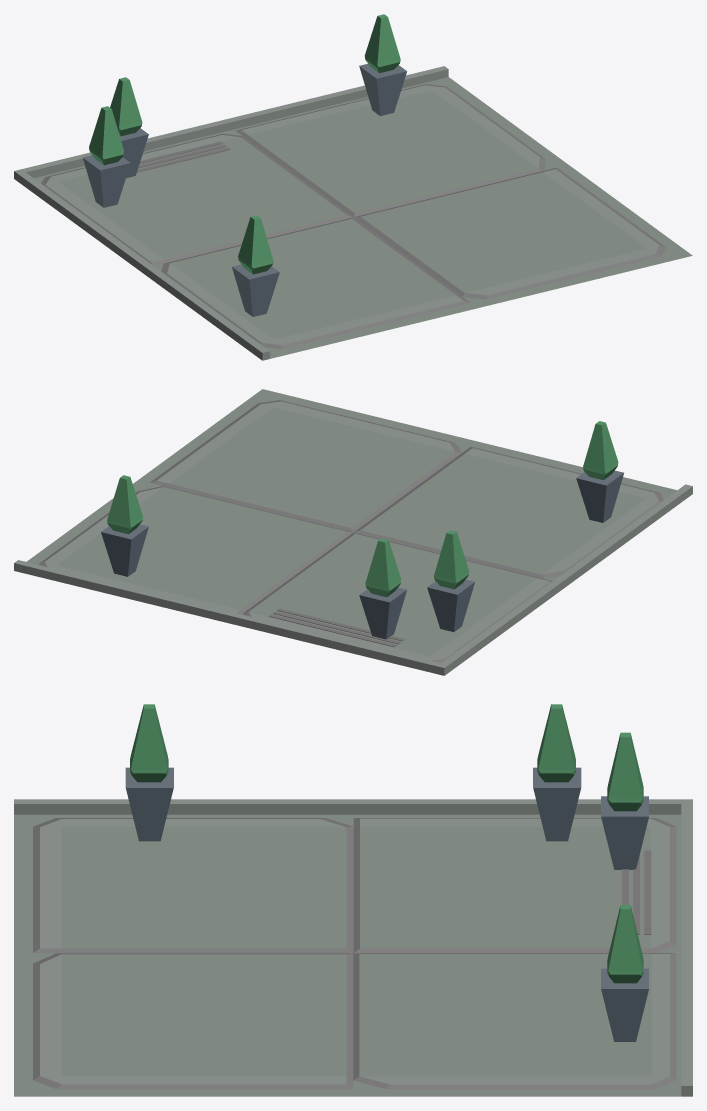
Rendered from OpenCorner_D.gltf.
3 views of the same model, one above another, from view 1: azimuth 30°, elevation 25°; view 2: azimuth 150°, elevation 25°; view 3: azimuth 270°, elevation 25° (orthographic). The views are drawn at different scales.
Parts seen in each view (by area): view 1: Scifi_Panel_03 Plaza014_group4.018; view 2: Scifi_Panel_03 Plaza014_group4.018; view 3: Scifi_Panel_03 Plaza014_group4.018.
Part boxes in pixels (left/top/right/bottom): Scifi_Panel_03 Plaza014_group4.018: left=14, top=14, right=692, bottom=360; Scifi_Panel_03 Plaza014_group4.018: left=14, top=389, right=692, bottom=675; Scifi_Panel_03 Plaza014_group4.018: left=14, top=704, right=692, bottom=1096.
Size of what is drawn, in the model's own units: 10 by 2.2 by 10.
1 material, 1 textured.
